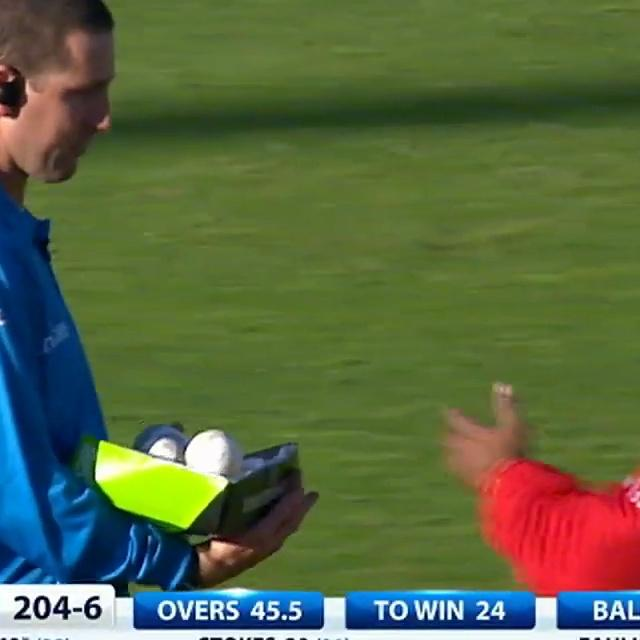umpire: (414, 71, 640, 592)
